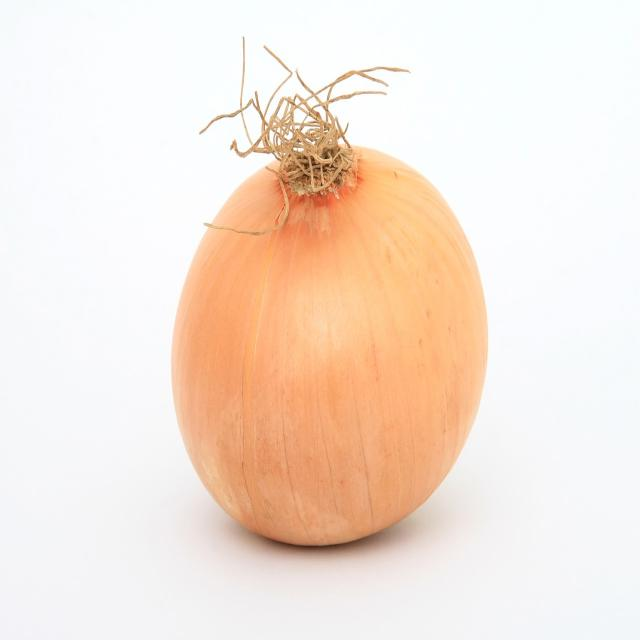onion: (172, 118, 487, 546)
